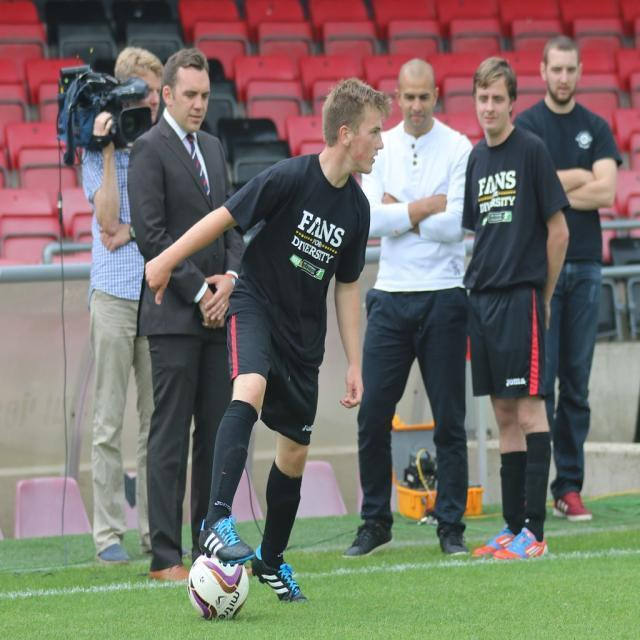ball: (189, 553, 250, 619)
